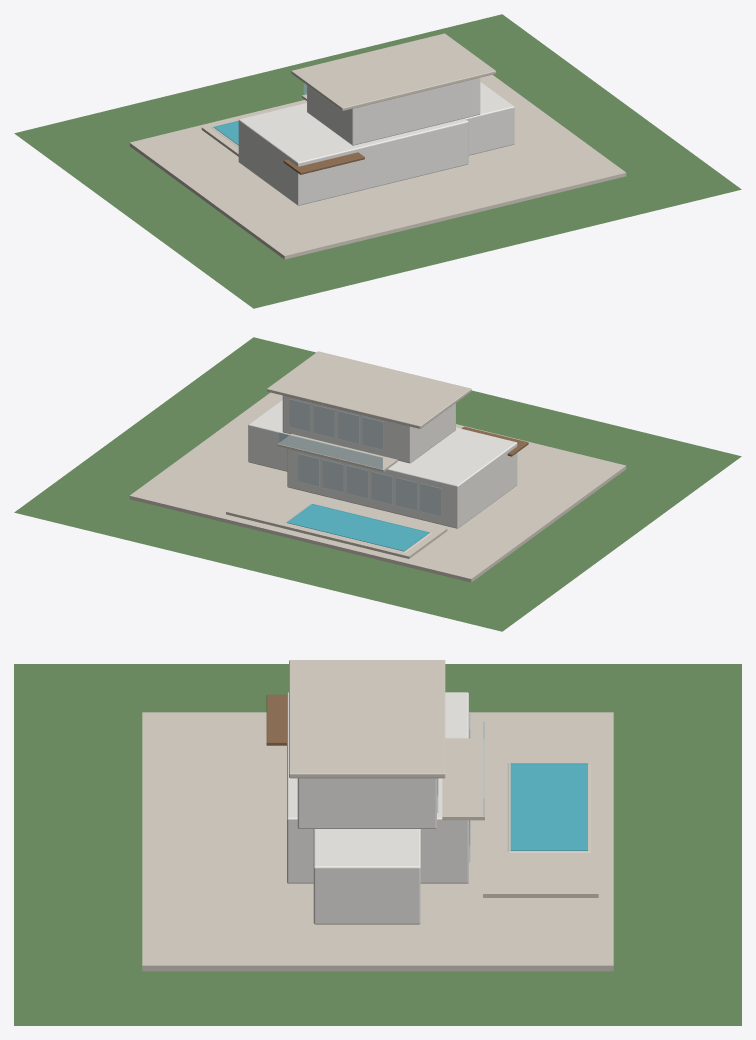
Rendered from villa.glb.
3 renders of one model, top to bottom at view 1: azimuth 30°, elevation 25°; view 2: azimuth 150°, elevation 25°; view 3: azimuth 270°, elevation 25°, orthographic. The views are drawn at different scales.
Visible parts, largest first — view 1: garden_plane, site_slab, ground_floor_main, upper_canopy, upper_floor_main, ground_floor_wing, entry_canopy, pool_deck; view 2: garden_plane, site_slab, ground_floor_main, upper_canopy, upper_floor_main, pool_deck, pool_shell, pool_water, ground_floor_wing, master_balcony, balcony_glass, master_bedroom_glass_02 (+9 smaller); view 3: garden_plane, site_slab, upper_canopy, ground_floor_wing, pool_deck, pool_shell, upper_floor_main, pool_water, ground_floor_main, master_balcony, entry_canopy.
Part boxes in pixels (x1=…): garden_plane: x1=14, y1=14, x2=741, y2=308; site_slab: x1=129, y1=74, x2=626, y2=259; ground_floor_main: x1=238, y1=103, x2=468, y2=205; upper_canopy: x1=291, y1=33, x2=496, y2=110; upper_floor_main: x1=307, y1=77, x2=480, y2=145; ground_floor_wing: x1=465, y1=82, x2=514, y2=155; entry_canopy: x1=283, y1=152, x2=364, y2=174; pool_deck: x1=201, y1=101, x2=306, y2=156; garden_plane: x1=14, y1=337, x2=741, y2=631; site_slab: x1=129, y1=392, x2=626, y2=582; ground_floor_main: x1=287, y1=427, x2=517, y2=528; upper_canopy: x1=267, y1=351, x2=471, y2=428; upper_floor_main: x1=282, y1=395, x2=455, y2=463; pool_deck: x1=226, y1=484, x2=447, y2=558; pool_shell: x1=284, y1=503, x2=431, y2=552; pool_water: x1=287, y1=504, x2=429, y2=551; ground_floor_wing: x1=248, y1=400, x2=290, y2=471; master_balcony: x1=277, y1=434, x2=397, y2=471; balcony_glass: x1=278, y1=432, x2=382, y2=469; master_bedroom_glass_02: x1=337, y1=411, x2=359, y2=443; garden_plane: x1=14, y1=664, x2=741, y2=1025; site_slab: x1=142, y1=712, x2=613, y2=971; upper_canopy: x1=289, y1=660, x2=445, y2=778; ground_floor_wing: x1=313, y1=829, x2=420, y2=924; pool_deck: x1=483, y1=758, x2=598, y2=897; pool_shell: x1=507, y1=763, x2=590, y2=852; upper_floor_main: x1=297, y1=778, x2=436, y2=828; pool_water: x1=510, y1=763, x2=587, y2=850; ground_floor_main: x1=287, y1=692, x2=468, y2=883; master_balcony: x1=442, y1=738, x2=484, y2=820; entry_canopy: x1=266, y1=694, x2=286, y2=745.
Bounding box in the file's own units: 40 × 7.07 × 34.
